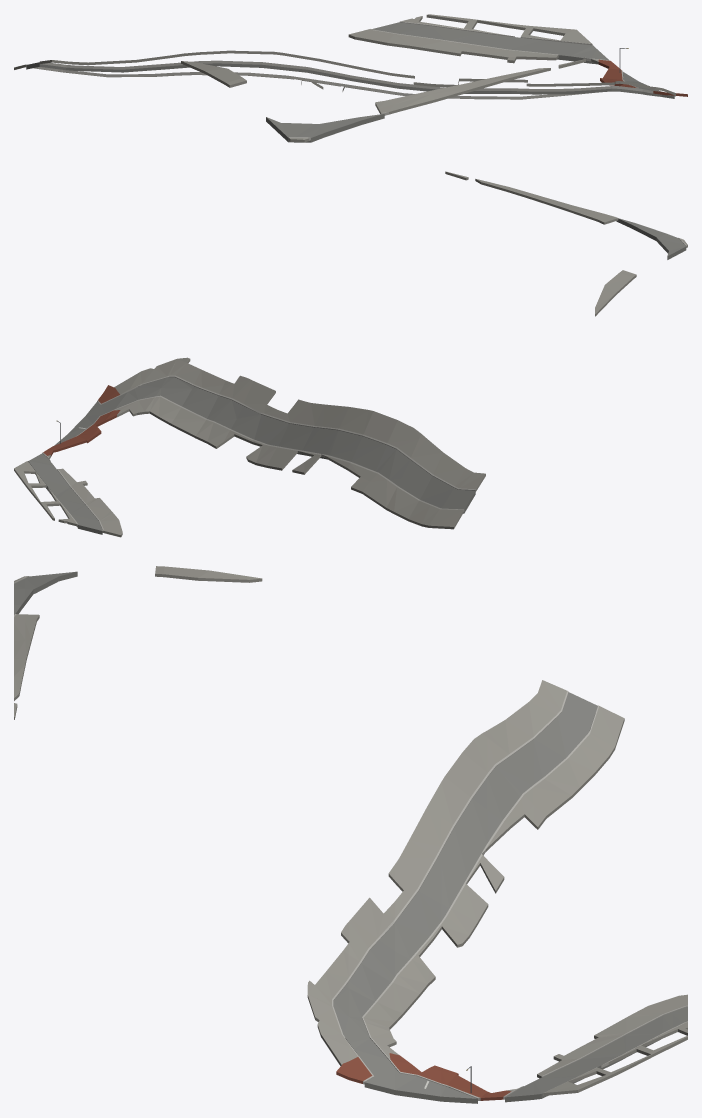
The picture shows the model from 3 angles, top to bottom: view 1: azimuth 30°, elevation 25°; view 2: azimuth 150°, elevation 25°; view 3: azimuth 270°, elevation 25°; orthographic projection. The views are drawn at different scales.
Bounding box in the file's own units: 147 × 60.73 × 146.
